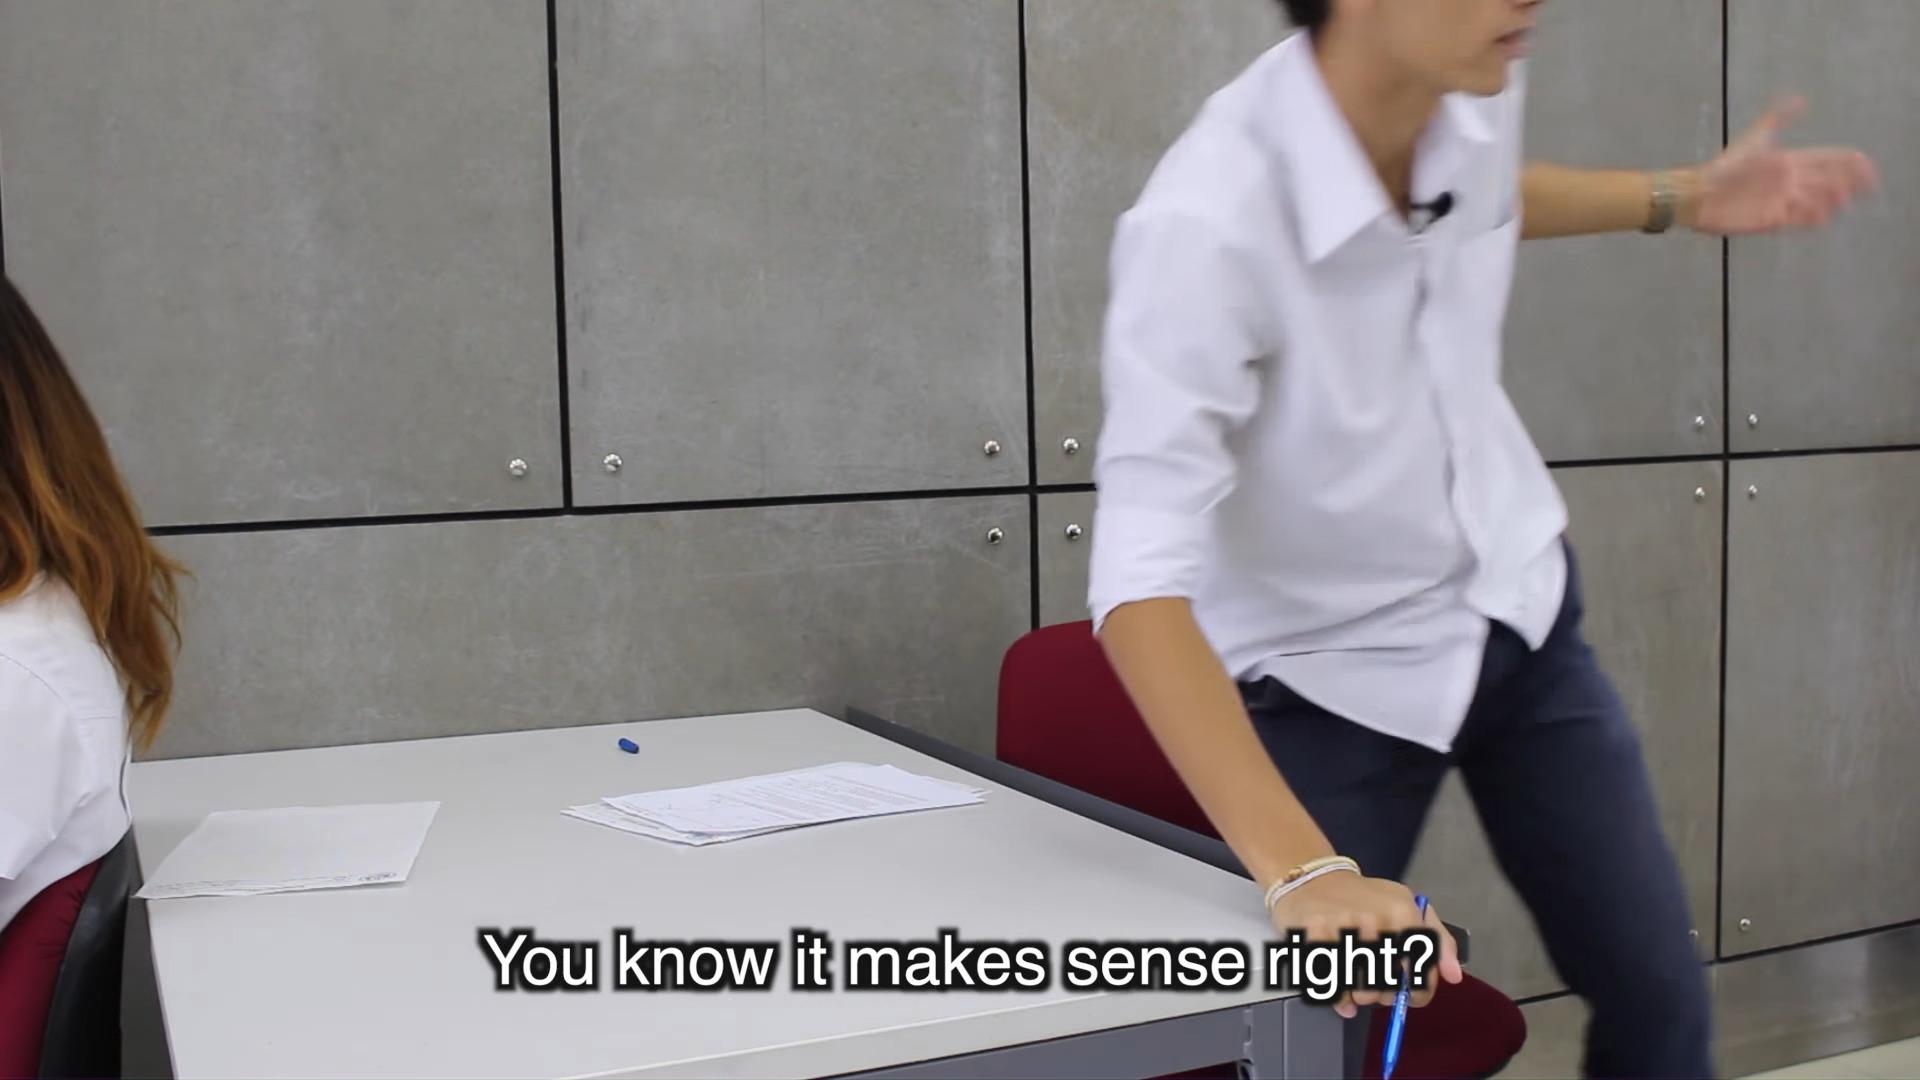cheating: (547, 0, 1626, 874)
